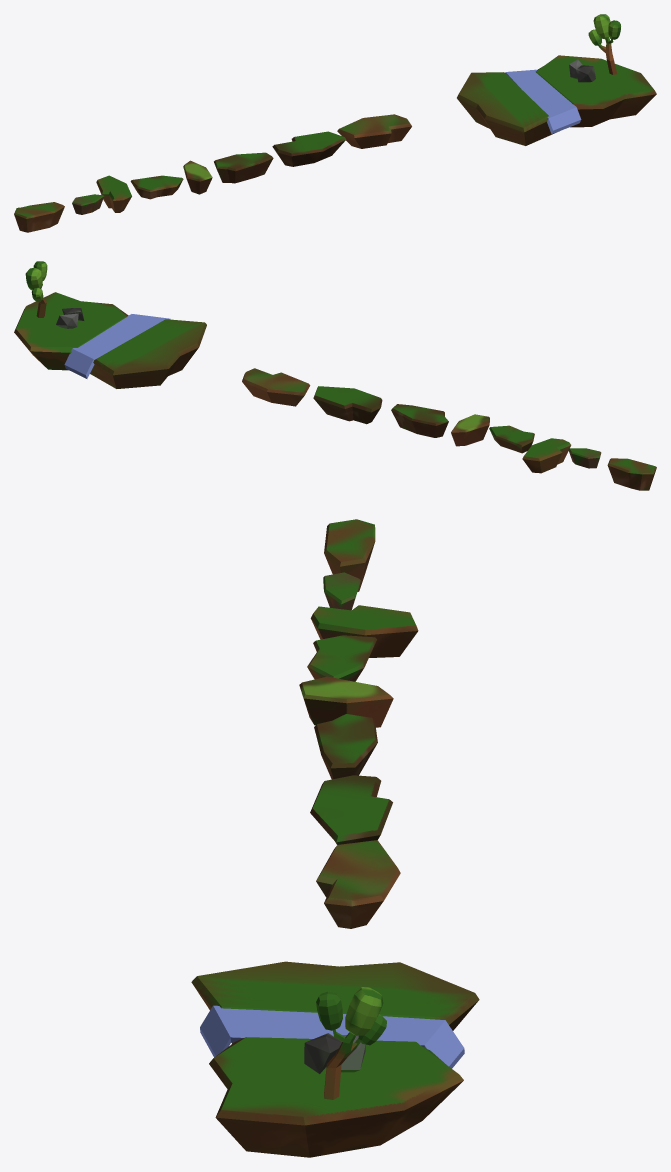
Rendered from floating_island.glb.
The picture shows the model from 3 angles, top to bottom: view 1: azimuth 30°, elevation 25°; view 2: azimuth 150°, elevation 25°; view 3: azimuth 270°, elevation 25°; orthographic projection. The views are drawn at different scales.
Parts seen in each view (by area): view 1: Island Final, Water, Island 8, Island 7, Island 6, Island 1, Island 4, Island 3, Island 5, Island 2, Leaves1; view 2: Island Final, Water, Island 7, Island 8, Island 6, Island 1, Island 3, Island 5, Island 4, Island 2; view 3: Island Final, Water, Island 8, Island 7, Island 3, Island 5, Island 6, Island 1, Island 4, Leaves1, Island 2, Tree Stamp (+1 smaller).
Part boxes in pixels (bbox=[...]): Island Final: bbox=[457, 55, 656, 145]; Water: bbox=[505, 69, 581, 134]; Island 8: bbox=[337, 114, 411, 148]; Island 7: bbox=[272, 131, 346, 166]; Island 6: bbox=[214, 152, 273, 183]; Island 1: bbox=[14, 202, 64, 232]; Island 4: bbox=[130, 175, 183, 199]; Island 3: bbox=[96, 175, 131, 212]; Island 5: bbox=[183, 160, 212, 194]; Island 2: bbox=[72, 194, 104, 214]; Leaves1: bbox=[593, 14, 610, 39]; Island Final: bbox=[14, 292, 206, 388]; Water: bbox=[64, 314, 170, 378]; Island 7: bbox=[313, 386, 382, 424]; Island 8: bbox=[242, 368, 310, 406]; Island 6: bbox=[391, 404, 448, 437]; Island 1: bbox=[607, 458, 656, 490]; Island 3: bbox=[522, 438, 571, 473]; Island 5: bbox=[451, 414, 489, 446]; Island 4: bbox=[489, 425, 534, 453]; Island 2: bbox=[568, 448, 601, 468]; Island Final: bbox=[191, 961, 479, 1157]; Water: bbox=[200, 1005, 464, 1068]; Island 8: bbox=[316, 840, 400, 928]; Island 7: bbox=[310, 775, 392, 844]; Island 3: bbox=[310, 605, 418, 657]; Island 5: bbox=[299, 676, 393, 727]; Island 6: bbox=[314, 714, 377, 779]; Island 1: bbox=[324, 519, 375, 591]; Island 4: bbox=[307, 635, 376, 681]; Leaves1: bbox=[345, 987, 383, 1035]; Island 2: bbox=[323, 572, 360, 610]; Tree Stamp: bbox=[324, 1029, 360, 1099].
Size of the model in its own units: 57.61 by 7.11 by 11.69.
Materials: 1 (1 with a texture image).
